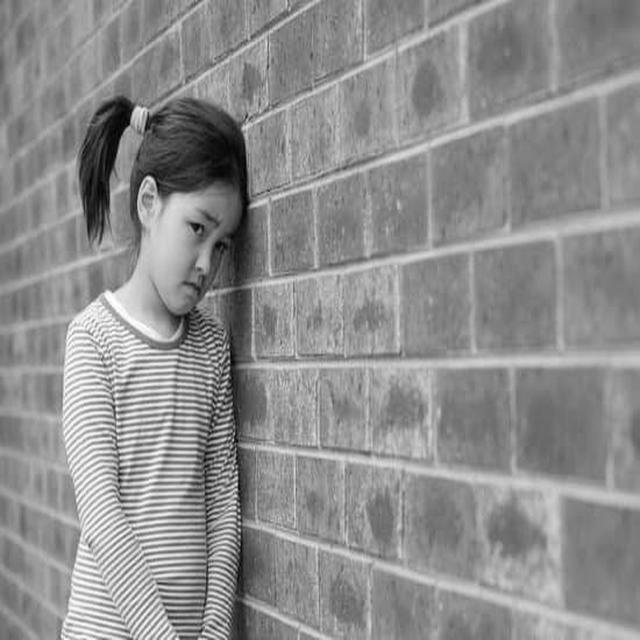Sadness: (164, 183, 240, 318)
